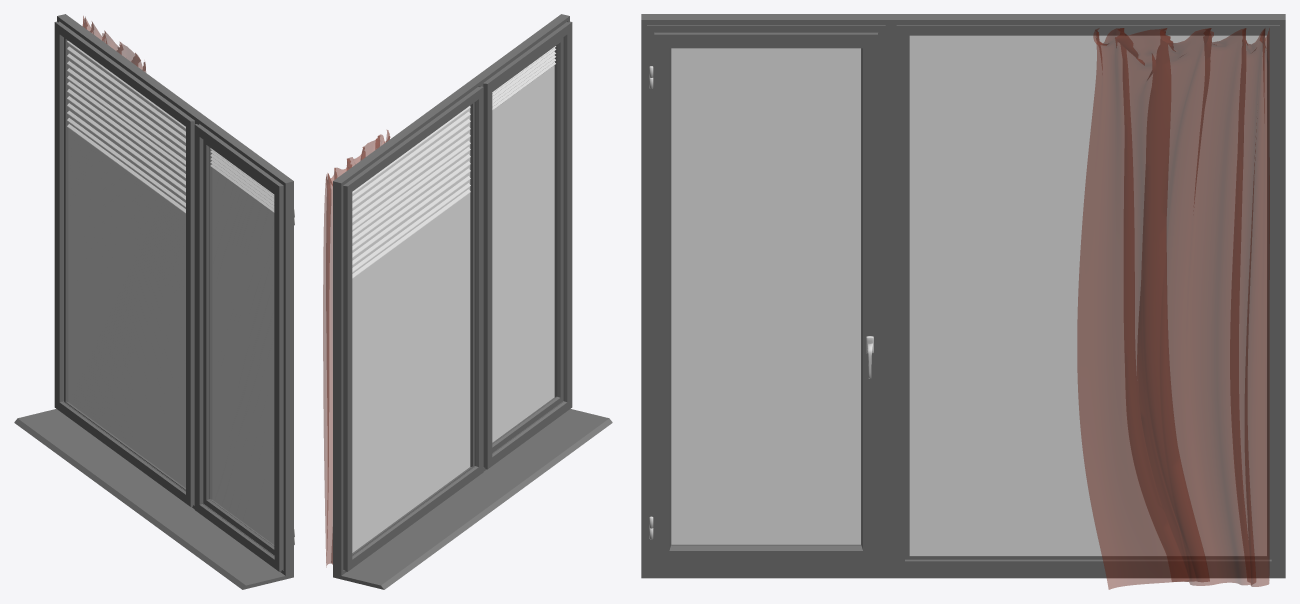
The model's file is Window.fbx.
3 renders of one model, left to right at view 1: azimuth 30°, elevation 25°; view 2: azimuth 150°, elevation 25°; view 3: azimuth 270°, elevation 25°, orthographic. The views are drawn at different scales.
Parts seen in each view (by area): view 1: win_doubleTallOpen; view 2: win_doubleTallOpen; view 3: win_doubleTallOpen.
Boxes of the visible parts, box(x1,y1,x2,y2) form: win_doubleTallOpen: box(14, 14, 294, 589); win_doubleTallOpen: box(323, 14, 612, 589); win_doubleTallOpen: box(641, 14, 1285, 589).
Bounding box in the file's own units: 42.84 × 220 × 230.
